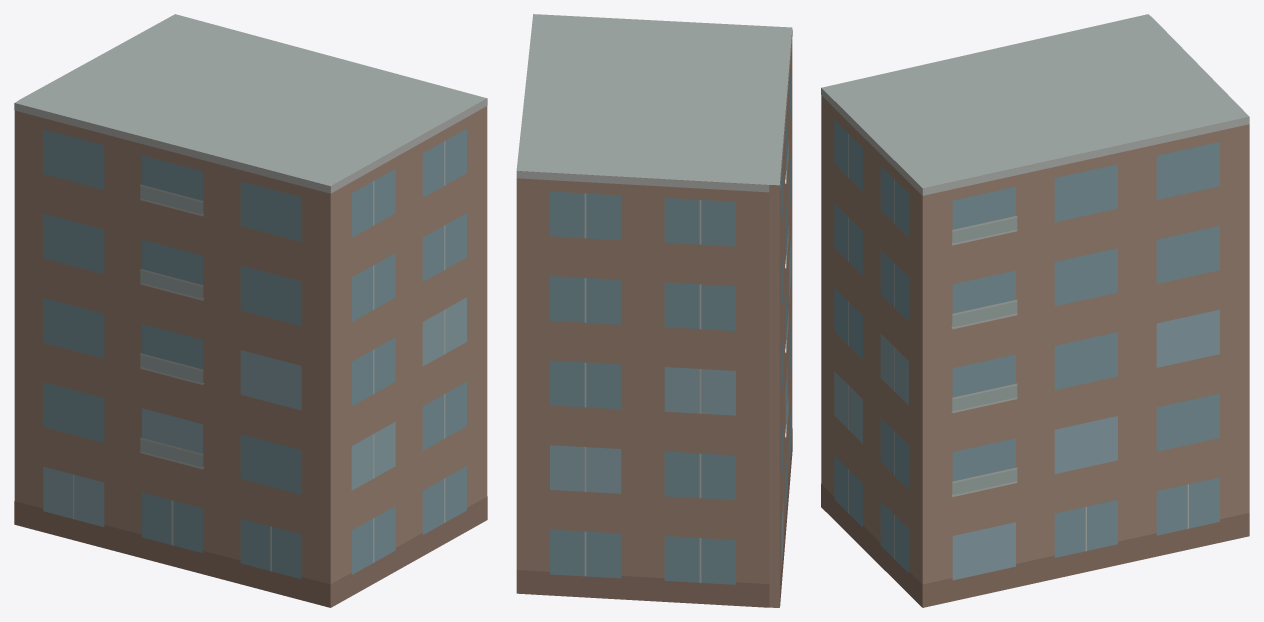
File: survey-upis-32836158.glb
The picture shows the model from 3 angles, left to right: view 1: azimuth 30°, elevation 25°; view 2: azimuth 150°, elevation 25°; view 3: azimuth 270°, elevation 25°; orthographic projection.
Visible parts, largest first — view 1: survey-upis-32836158.tmp; view 2: survey-upis-32836158.tmp; view 3: survey-upis-32836158.tmp.
Part boxes in pixels (<box>): survey-upis-32836158.tmp: <box>14,14,487,607</box>; survey-upis-32836158.tmp: <box>516,14,792,607</box>; survey-upis-32836158.tmp: <box>821,14,1249,607</box>.
Size of the model in its own units: 12.32 by 13.8 by 12.78.
